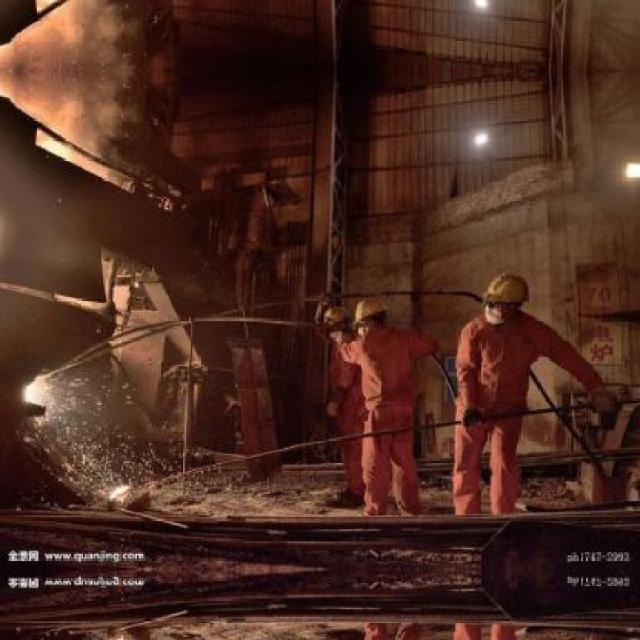helmet: (477, 272, 529, 319), (351, 294, 391, 340), (318, 304, 350, 342)
